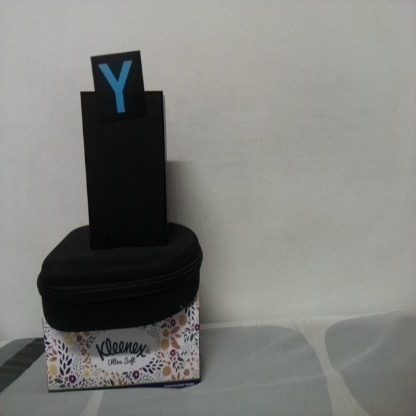id_14: (90, 55, 143, 124)
